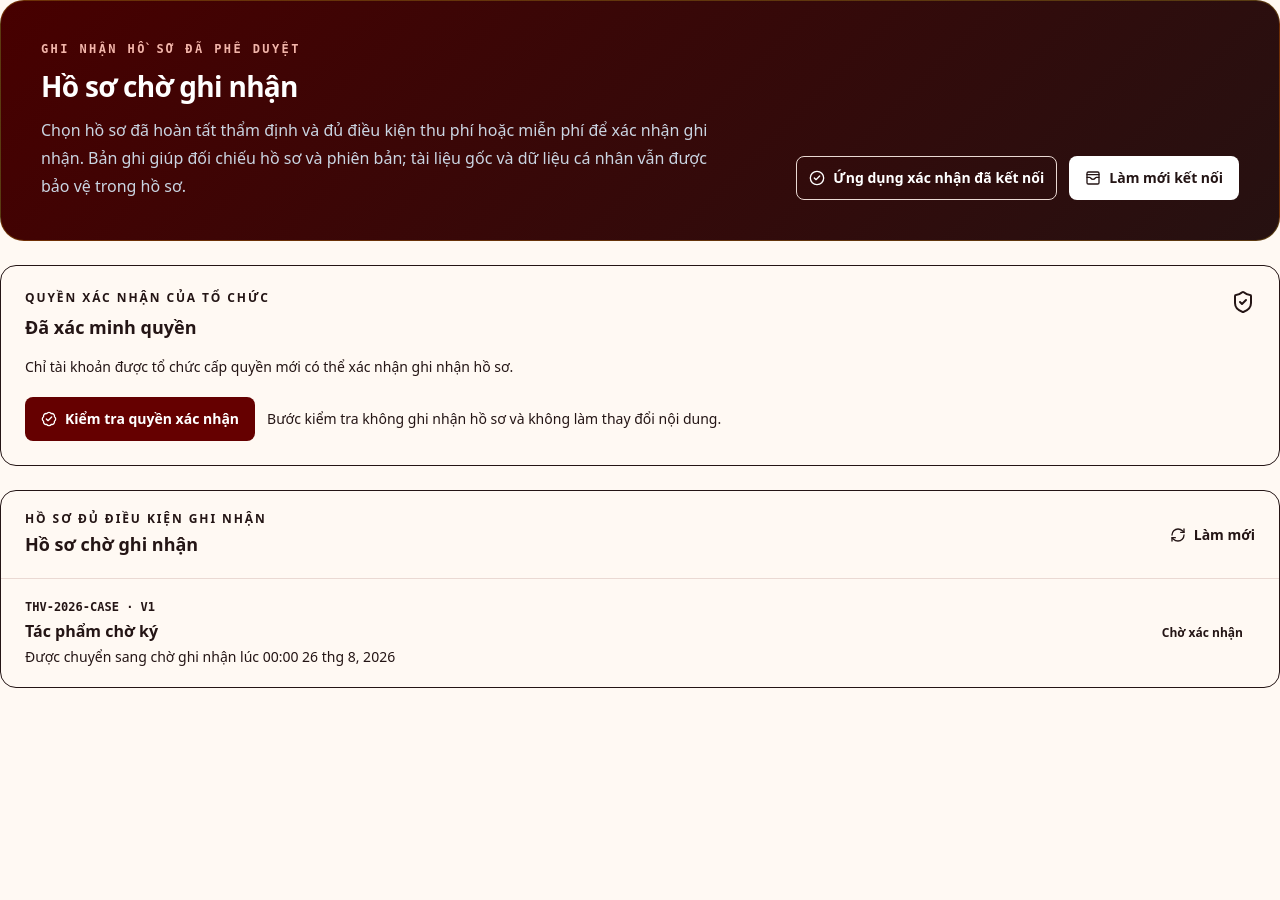
Scenario: BlockchainSigningWorkspace › accepts checksum casing differences for the authorized wallet
The image size is (1280, 900).
What coordinates should you click on to do the following:
click the button "Tác phẩm chờ ký"
I would click on:
 (72, 607)
Its box is [1,579,1279,687].
(page scrolled)
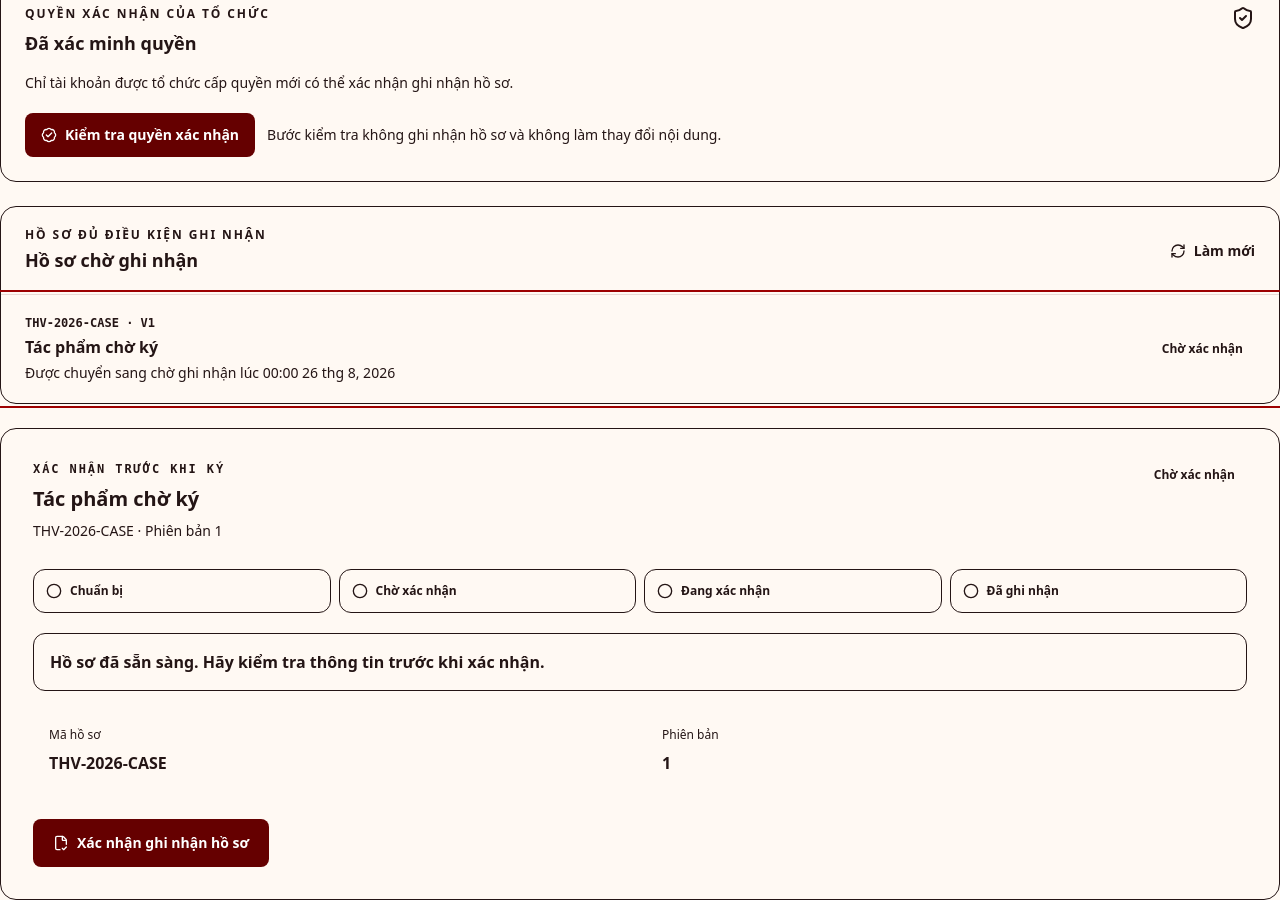
Expected: the button "Xác nhận ghi nhận hồ sơ" is enabled, [33,819,269,867]
